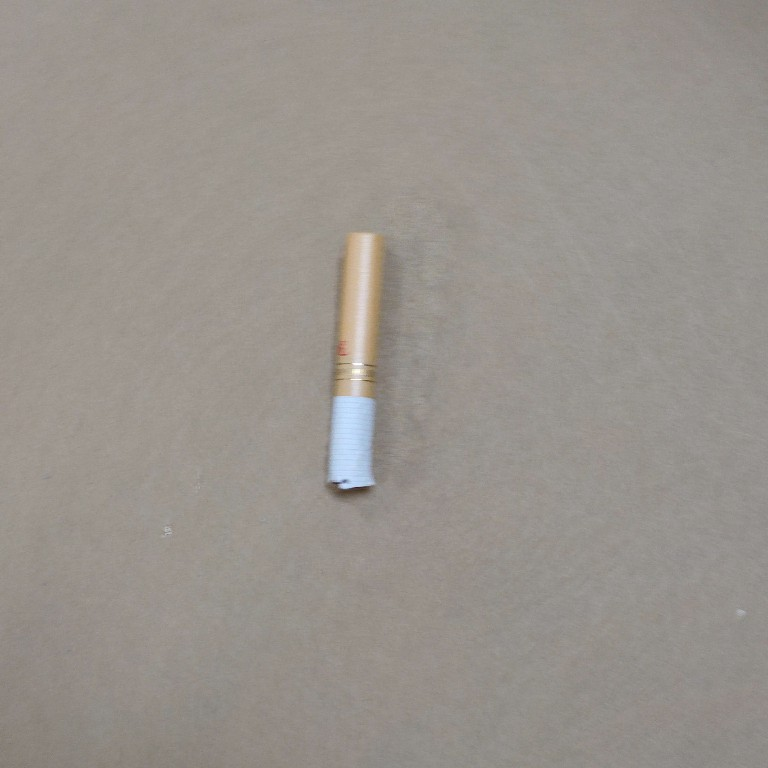cigarette: (320, 229, 399, 504)
